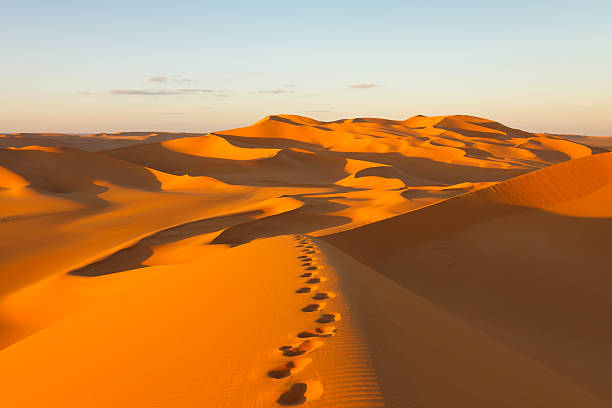human_foot_print: (277, 380, 322, 405), (268, 357, 312, 379), (280, 340, 323, 356), (297, 326, 336, 338), (316, 313, 340, 323), (301, 303, 324, 311), (312, 292, 334, 299), (306, 277, 325, 283)
